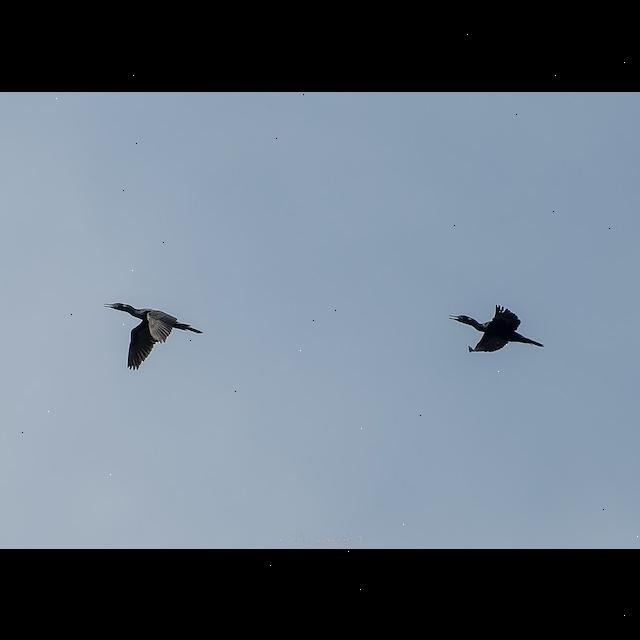cormorant: (98, 296, 205, 372), (447, 304, 549, 358)
